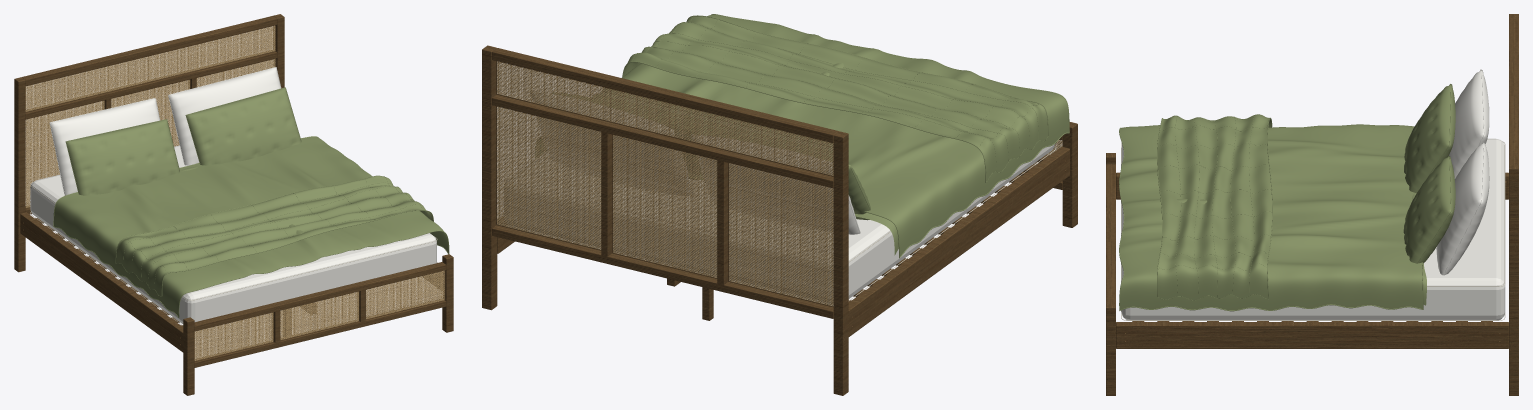
The picture shows the model from 3 angles, left to right: view 1: azimuth 30°, elevation 25°; view 2: azimuth 150°, elevation 25°; view 3: azimuth 270°, elevation 25°; orthographic projection. The views are drawn at different scales.
Visible parts, largest first — view 1: NEW HOI AN LV453.B02 | king-1 web batch; view 2: NEW HOI AN LV453.B02 | king-1 web batch; view 3: NEW HOI AN LV453.B02 | king-1 web batch.
Part boxes in pixels (bbox=[...]): NEW HOI AN LV453.B02 | king-1 web batch: bbox=[14, 14, 453, 395]; NEW HOI AN LV453.B02 | king-1 web batch: bbox=[482, 14, 1077, 395]; NEW HOI AN LV453.B02 | king-1 web batch: bbox=[1106, 14, 1518, 395].
Size of the model in its own units: 1.93 by 1.3 by 2.14.
Materials: 8 (2 with a texture image).
